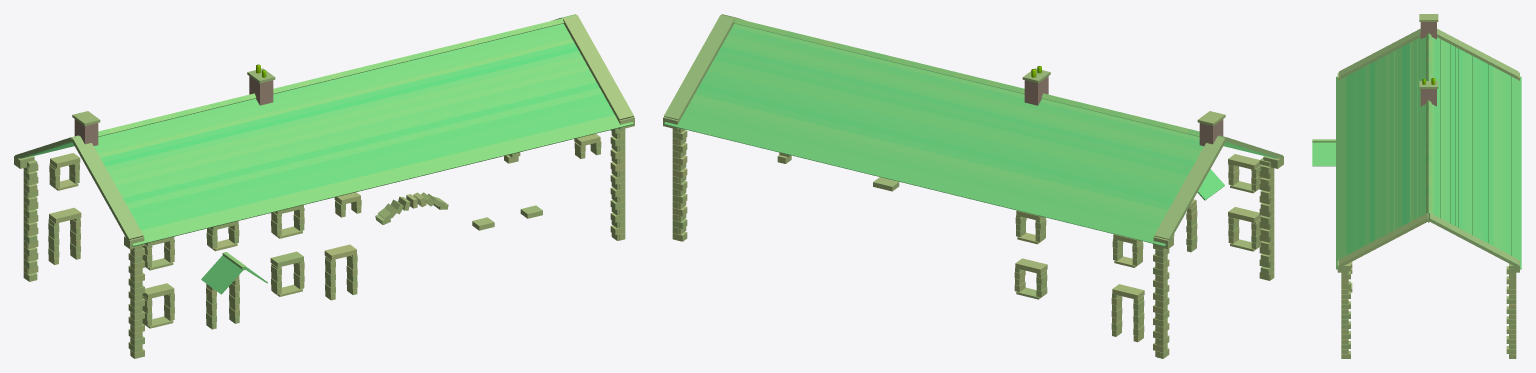
Rendered from SM_Bld_172_Stone.glb.
3 views of the same model, side by side, from view 1: azimuth 30°, elevation 25°; view 2: azimuth 150°, elevation 25°; view 3: azimuth 270°, elevation 25° (orthographic). The views are drawn at different scales.
Visible parts, largest first — view 1: SM_Bld_172_Stone; view 2: SM_Bld_172_Stone; view 3: SM_Bld_172_Stone.
Boxes of the visible parts, <box> form: SM_Bld_172_Stone: <box>14,14,634,358</box>; SM_Bld_172_Stone: <box>663,14,1283,358</box>; SM_Bld_172_Stone: <box>1312,14,1521,358</box>.
Size of the model in its own units: 24.97 by 9.74 by 11.4.
